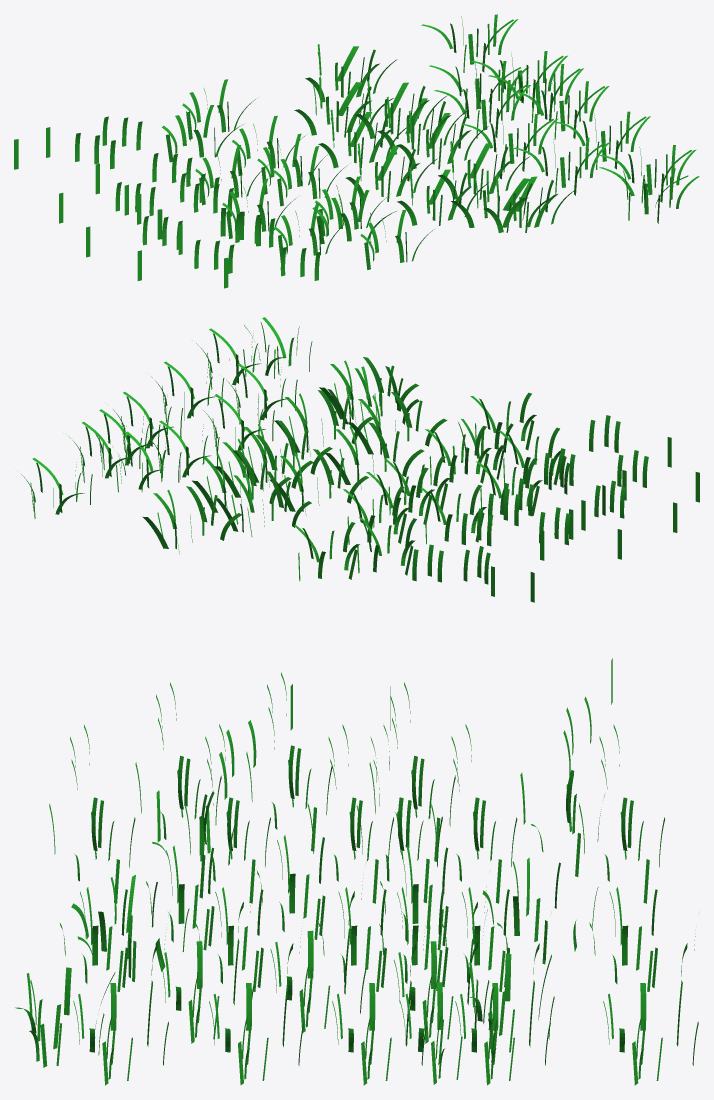
File: grasss.glb
3 renders of one model, top to bottom at view 1: azimuth 30°, elevation 25°; view 2: azimuth 150°, elevation 25°; view 3: azimuth 270°, elevation 25°, orthographic. The views are drawn at different scales.
Size of the model in its own units: 102 by 10.04 by 74.25.
1 material, 1 textured.
